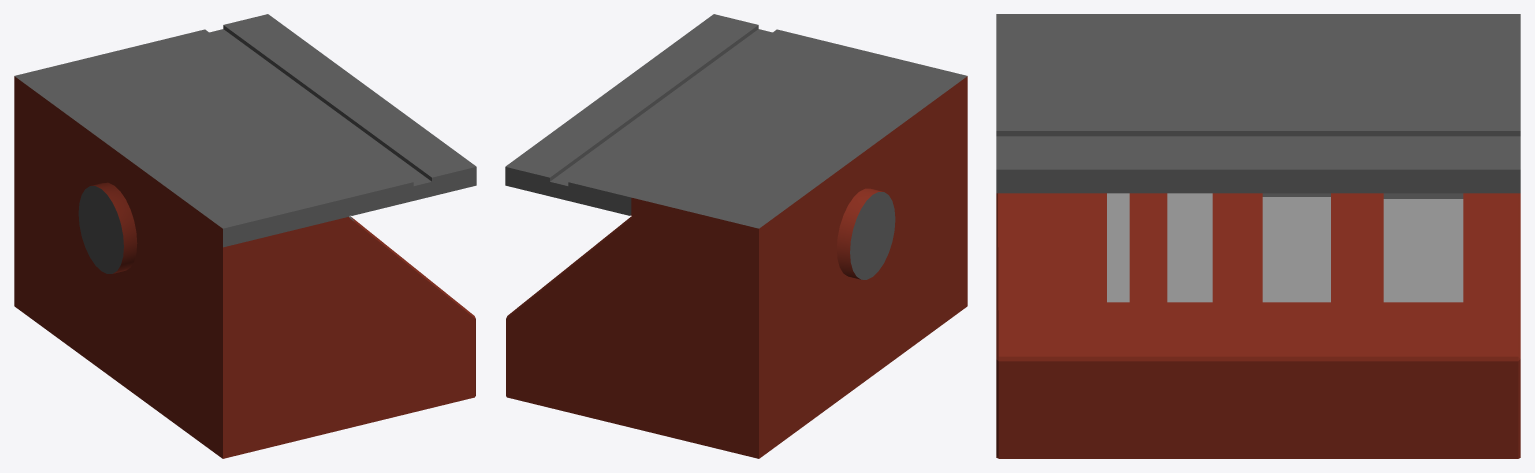
The model's file is Ridgid oscillating belt sander.fbx.
The picture shows the model from 3 angles, left to right: view 1: azimuth 30°, elevation 25°; view 2: azimuth 150°, elevation 25°; view 3: azimuth 270°, elevation 25°; orthographic projection. The views are drawn at different scales.
Parts seen in each view (by area): view 1: Ridgid oscillating belt sander; view 2: Ridgid oscillating belt sander; view 3: Ridgid oscillating belt sander.
Part boxes in pixels (bbox=[...]): Ridgid oscillating belt sander: bbox=[14, 14, 476, 458]; Ridgid oscillating belt sander: bbox=[505, 14, 967, 458]; Ridgid oscillating belt sander: bbox=[996, 14, 1520, 458].
Bounding box in the file's own units: 42.91 × 35.34 × 58.05.
